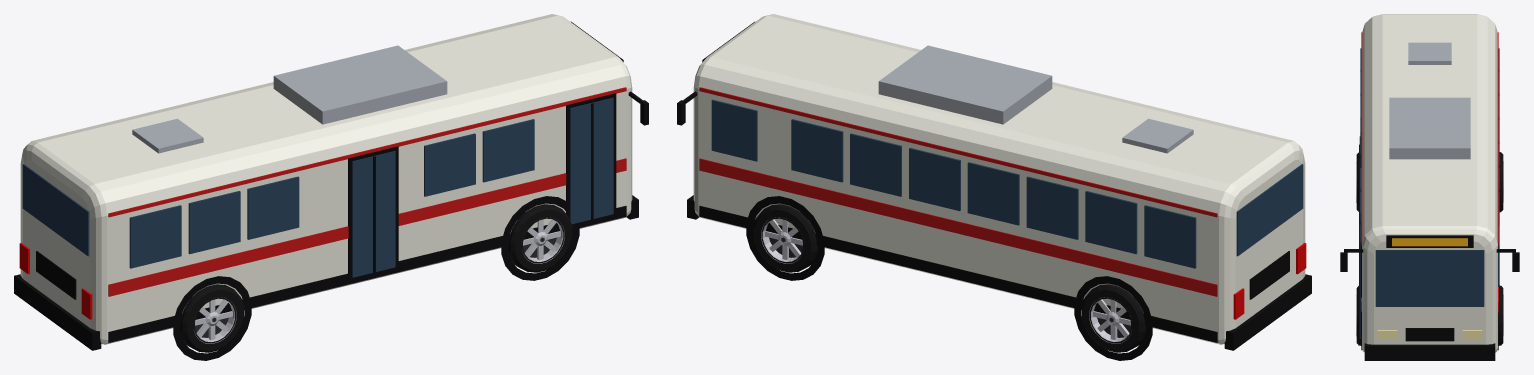
Rendered from bus.obj.
The picture shows the model from 3 angles, left to right: view 1: azimuth 30°, elevation 25°; view 2: azimuth 150°, elevation 25°; view 3: azimuth 270°, elevation 25°; orthographic projection. The views are drawn at different scales.
Visible parts, largest first — view 1: Body, RoofUnit, Stripe_-1, DoorGlass_0, DoorGlass_1, Skirt_-1, RearWindow, Window_-1_-2.12, Window_-1_2.04, Window_-1_-4.20, Window_-1_-3.16, Window_-1_1.00 (+10 smaller); view 2: Body, RoofUnit, Stripe_1, Skirt_1, RearWindow, Window_1_-2.12, Window_1_2.04, Window_1_-4.20, Window_1_-1.08, Window_1_-3.16, Window_1_-0.04, Window_1_1.00 (+9 smaller); view 3: Body, Windshield, RoofUnit, FrontBumper, RoofVent, Grille, Sign, SignFrame, RoofTrim_-1, RoofTrim_1, Tyre_FR, Tyre_RR (+9 smaller).
Part boxes in pixels (<box>): Body: <box>20,14,632,344</box>; RoofUnit: <box>273,45,447,124</box>; Stripe_-1: <box>108,158,626,296</box>; DoorGlass_0: <box>570,98,613,224</box>; DoorGlass_1: <box>352,151,395,277</box>; Skirt_-1: <box>108,206,626,342</box>; RearWindow: <box>22,164,89,256</box>; Window_-1_-2.12: <box>247,176,299,239</box>; Window_-1_2.04: <box>482,119,534,182</box>; Window_-1_-4.20: <box>129,205,181,268</box>; Window_-1_-3.16: <box>188,191,240,254</box>; Window_-1_1.00: <box>424,133,475,196</box>; Body: <box>693,14,1305,344</box>; RoofUnit: <box>878,45,1052,124</box>; Stripe_1: <box>699,158,1217,296</box>; Skirt_1: <box>699,206,1217,342</box>; RearWindow: <box>1236,164,1303,256</box>; Window_1_-2.12: <box>1026,176,1078,239</box>; Window_1_2.04: <box>791,119,843,182</box>; Window_1_-4.20: <box>1144,205,1196,268</box>; Window_1_-1.08: <box>967,162,1019,225</box>; Window_1_-3.16: <box>1085,191,1137,254</box>; Window_1_-0.04: <box>909,148,960,211</box>; Window_1_1.00: <box>850,133,901,196</box>; Body: <box>1362,14,1497,352</box>; Windshield: <box>1375,250,1484,306</box>; RoofUnit: <box>1389,97,1470,159</box>; FrontBumper: <box>1364,343,1495,360</box>; RoofVent: <box>1408,42,1451,64</box>; Grille: <box>1405,328,1454,341</box>; Sign: <box>1392,238,1467,246</box>; SignFrame: <box>1386,235,1473,247</box>; RoofTrim_-1: <box>1361,32,1362,245</box>; RoofTrim_1: <box>1497,32,1498,245</box>; Tyre_FR: <box>1498,285,1503,345</box>; Tyre_RR: <box>1499,152,1503,212</box>.
Size of the model in its own units: 9.66 by 3.45 by 3.29.
